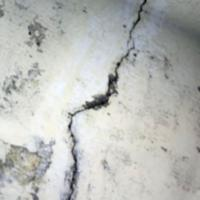crack: (52, 1, 151, 199)
